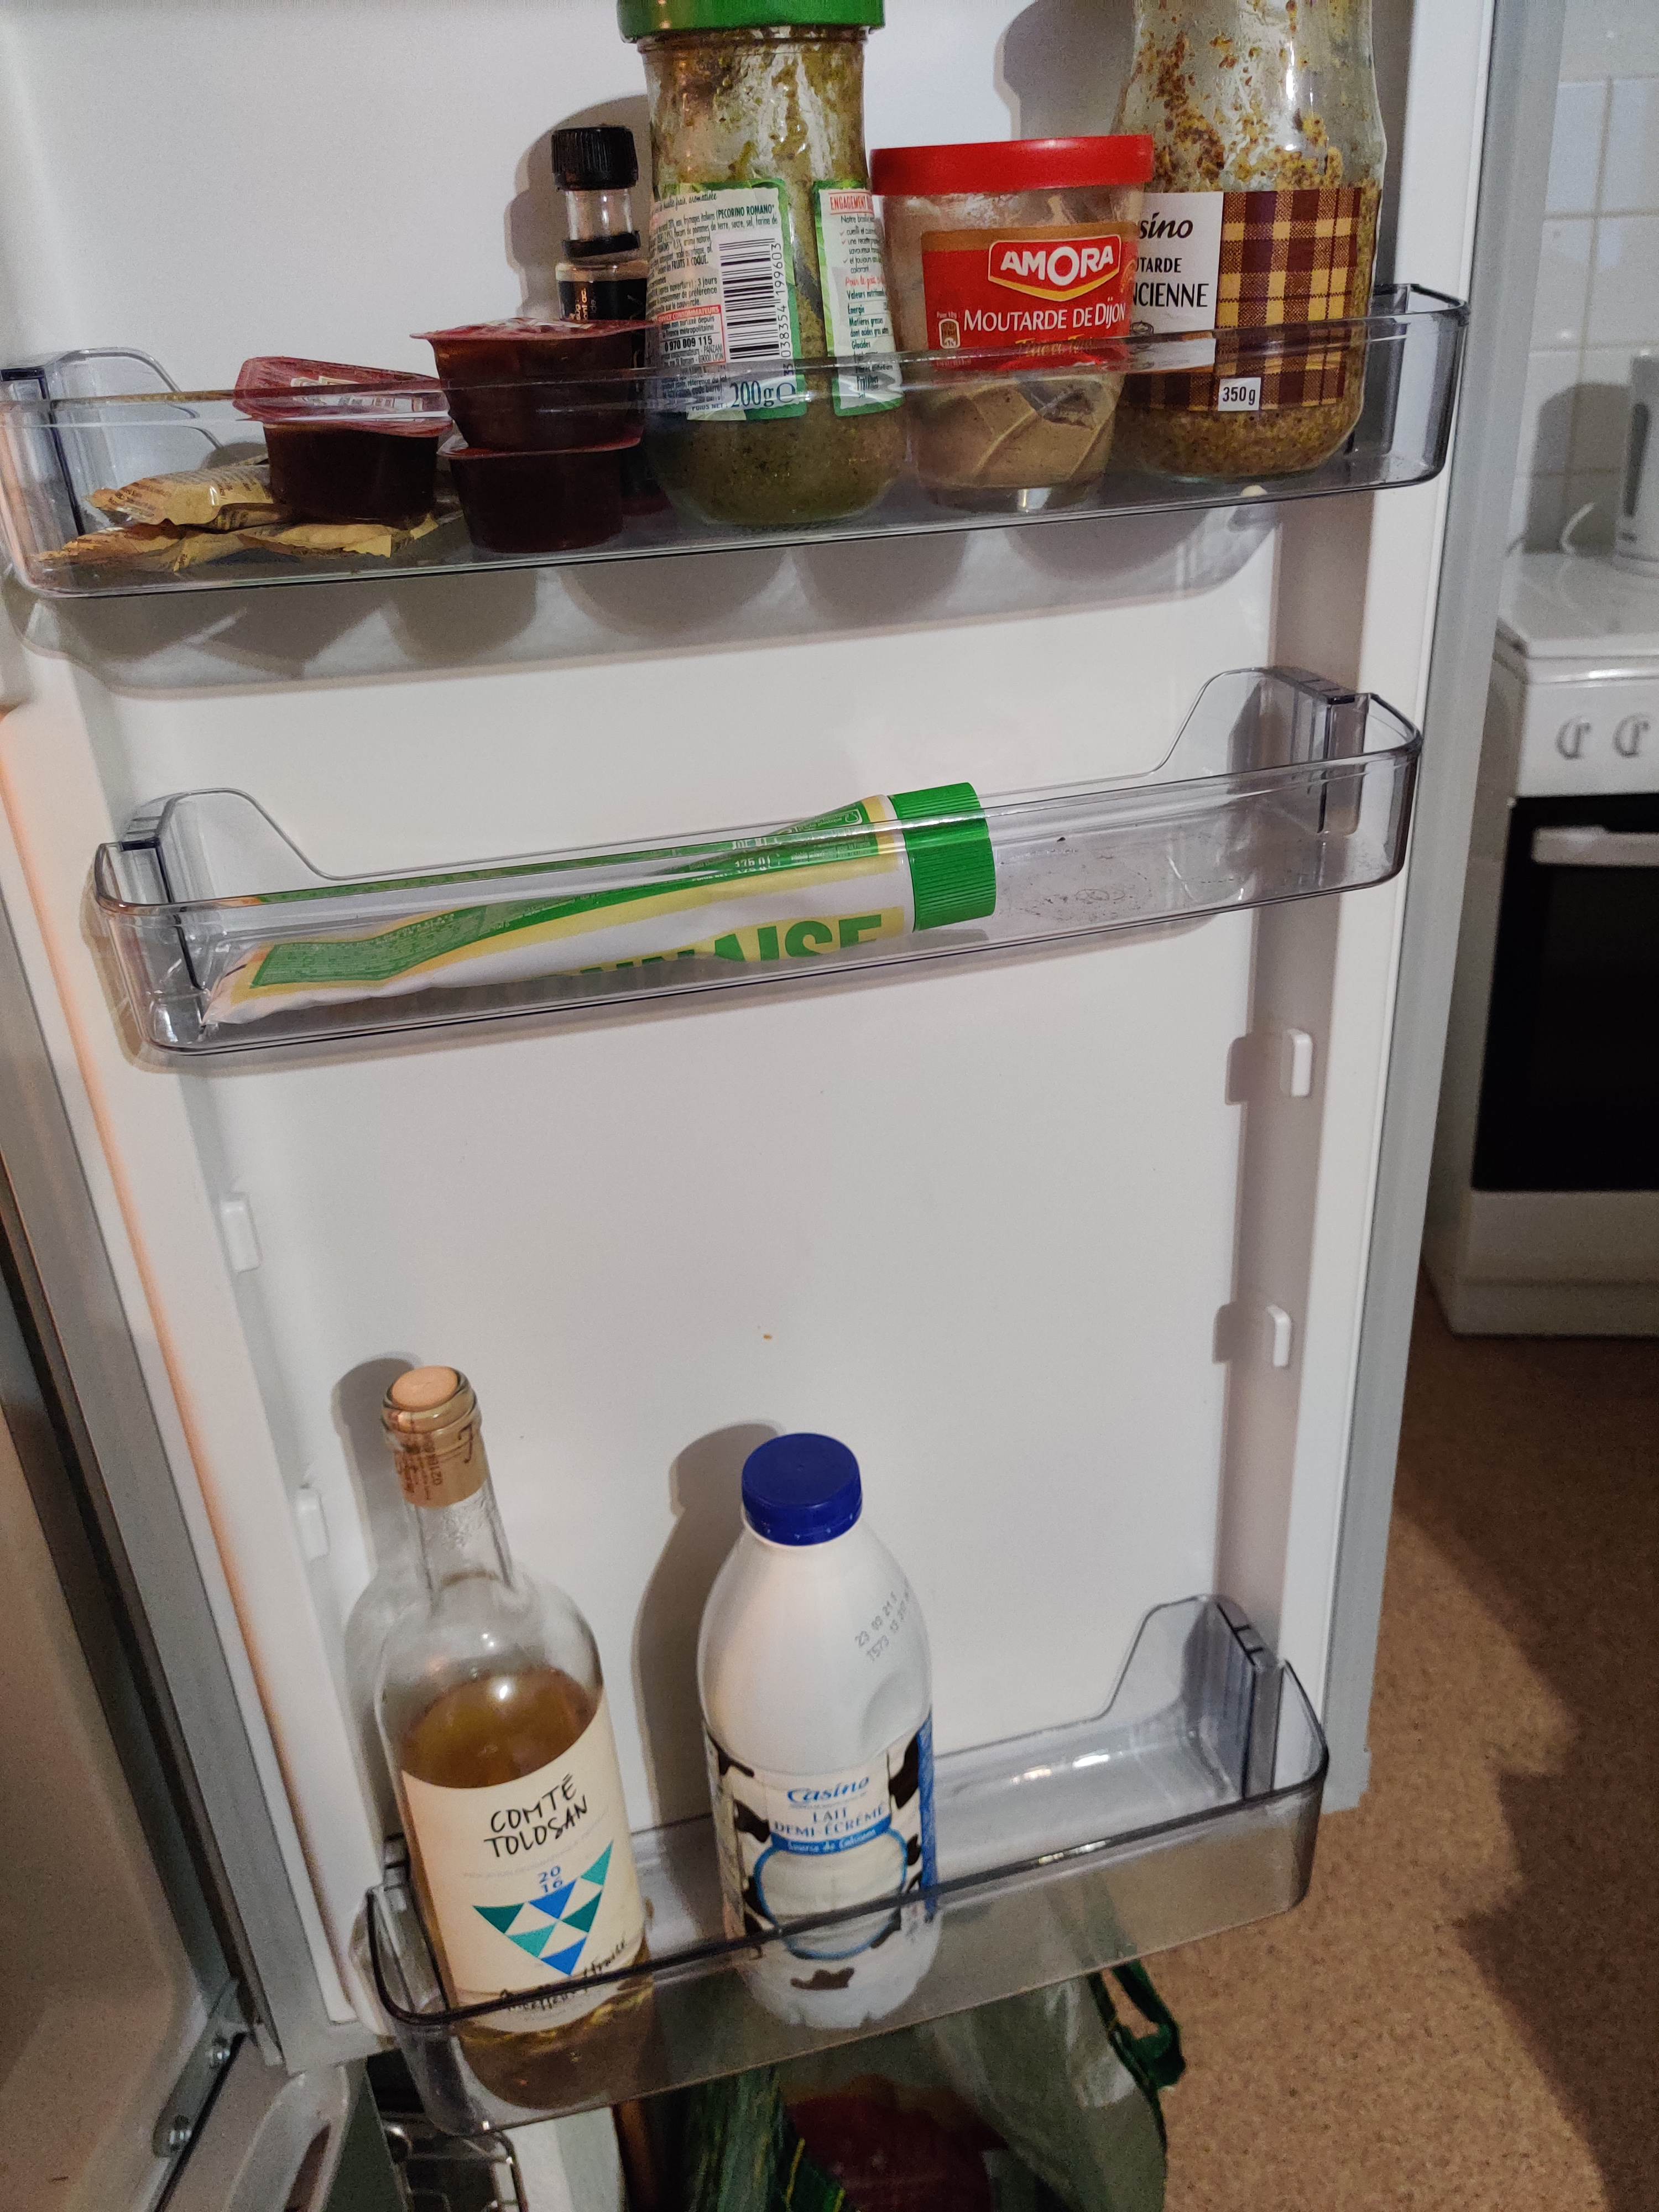bottle: (371, 1367, 662, 2099), (697, 1435, 950, 2022)
